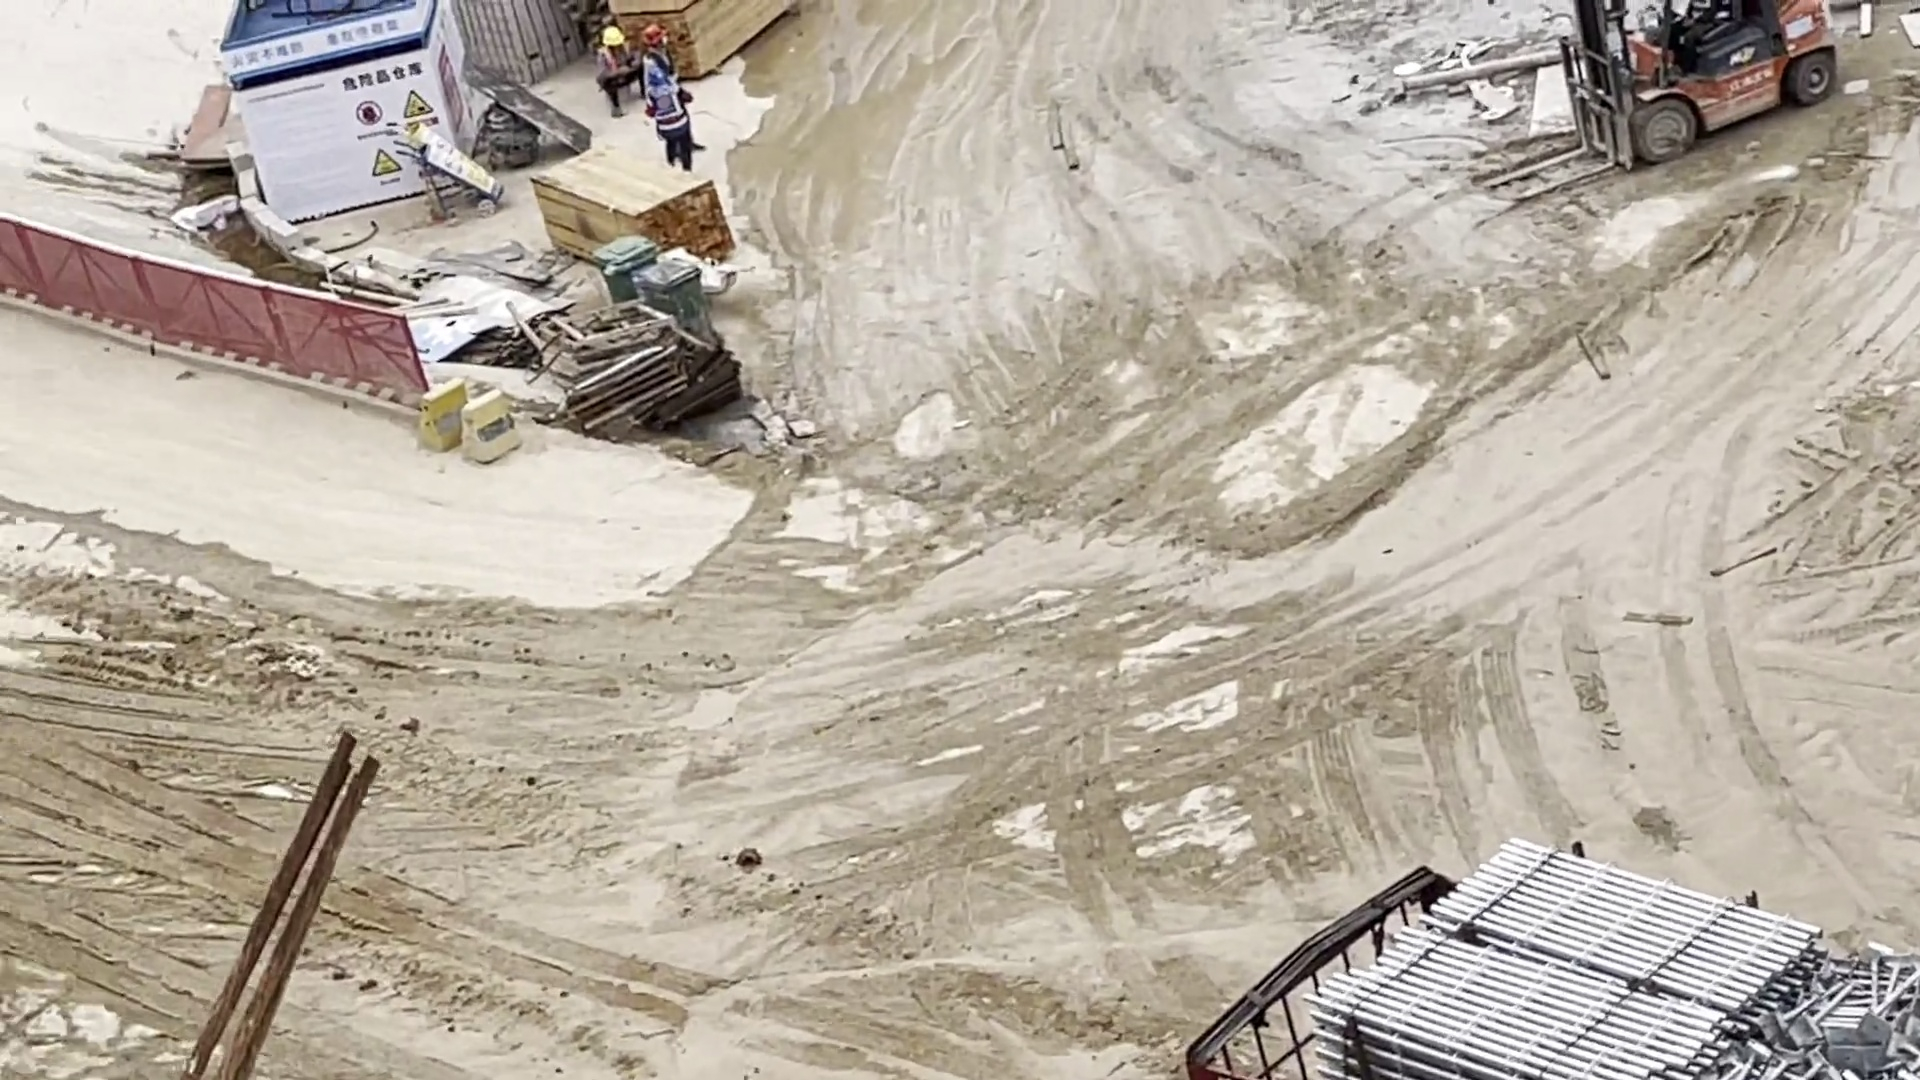helmet: (595, 27, 635, 50), (640, 23, 673, 47), (648, 69, 671, 88)
person: (641, 65, 706, 169), (589, 18, 636, 111), (638, 17, 686, 84)
scaffold: (1319, 833, 1831, 1080)
vest: (646, 89, 691, 136)
wood: (541, 160, 742, 253)
